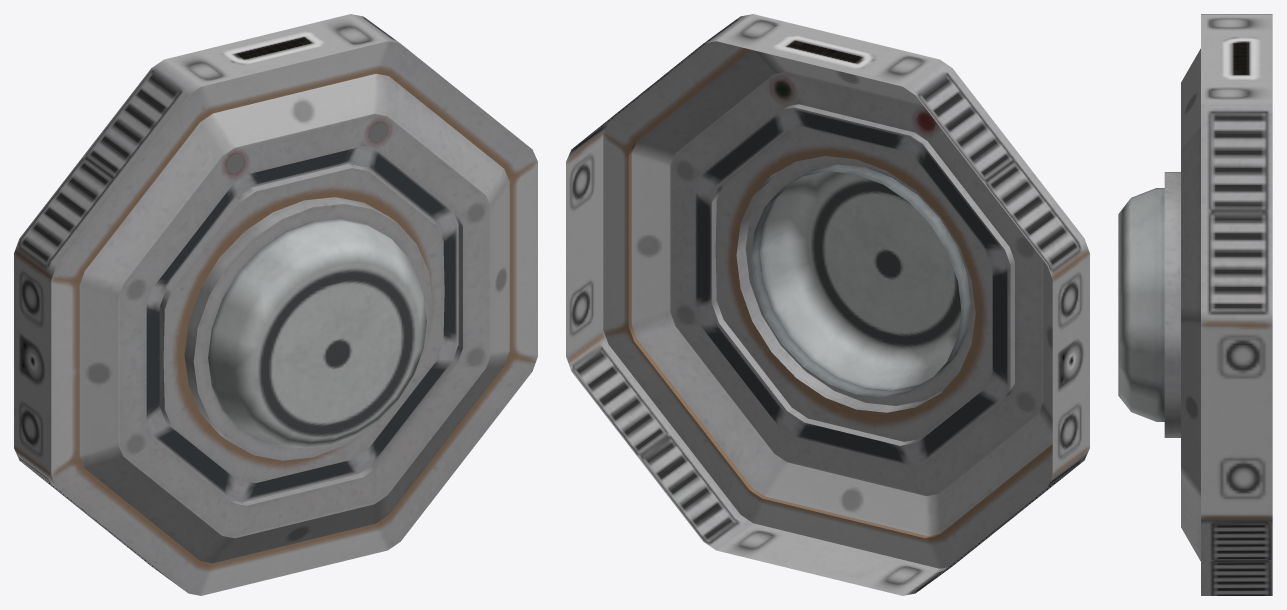
The model's file is Button A1D.fbx.
The picture shows the model from 3 angles, left to right: view 1: azimuth 30°, elevation 25°; view 2: azimuth 150°, elevation 25°; view 3: azimuth 270°, elevation 25°; orthographic projection. The views are drawn at different scales.
Visible parts, largest first — view 1: Button A1D, ButtonHandle A1D; view 2: Button A1D, ButtonHandle A1D; view 3: Button A1D, ButtonHandle A1D.
Part boxes in pixels (left/top/right/bottom): Button A1D: left=14, top=14, right=537, bottom=595; ButtonHandle A1D: left=208, top=219, right=426, bottom=448; Button A1D: left=566, top=14, right=1089, bottom=595; ButtonHandle A1D: left=760, top=171, right=961, bottom=390; Button A1D: left=1164, top=14, right=1272, bottom=595; ButtonHandle A1D: left=1118, top=188, right=1164, bottom=421.
Bounding box in the file's own units: 17.36 × 17.36 × 4.93.
3 materials, 1 textured.
